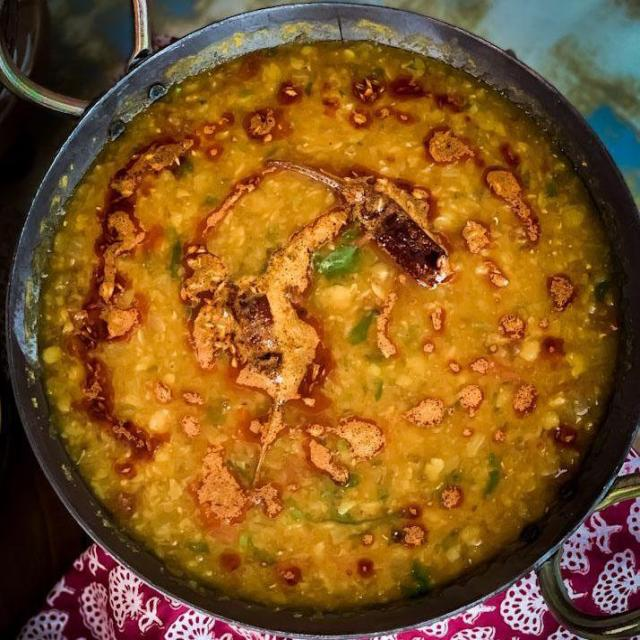dal: (93, 128, 565, 540)
